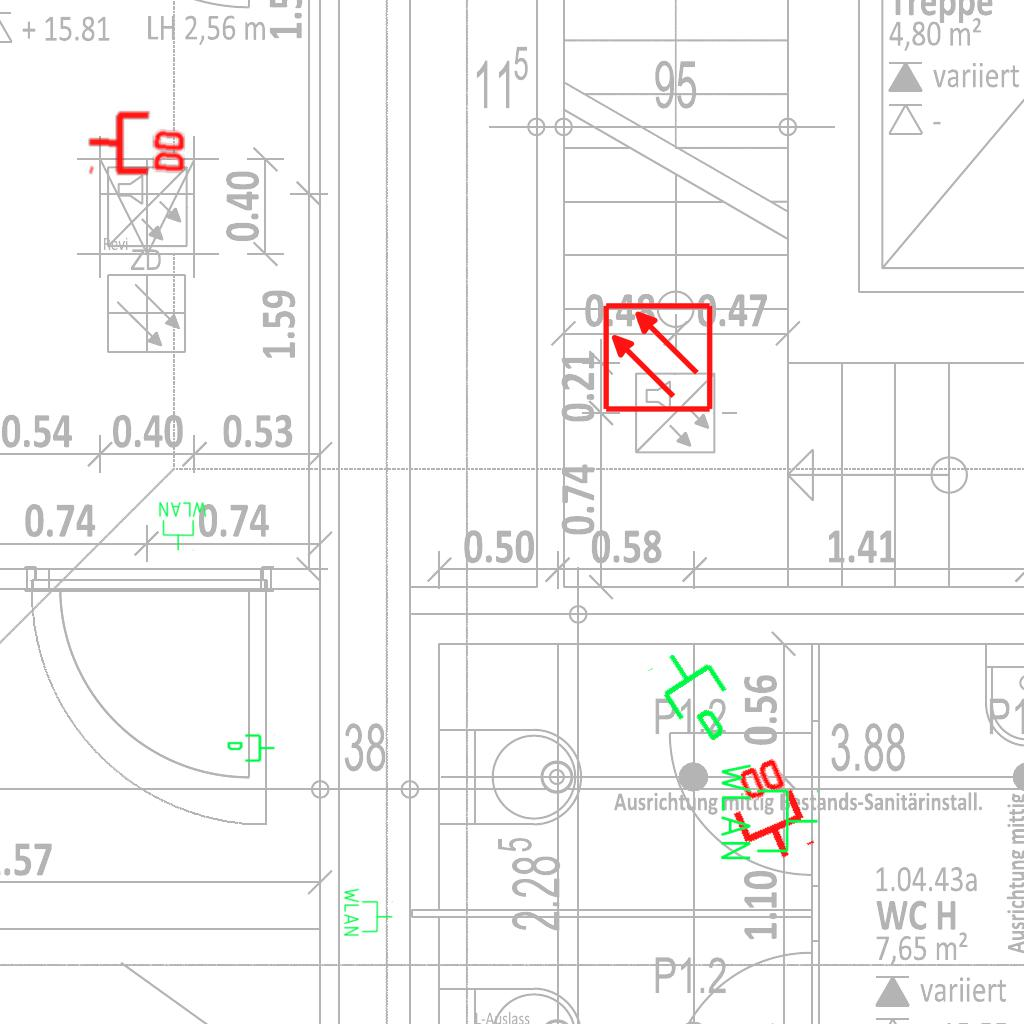Datenanschluss_einfach: (642, 633, 755, 755), (226, 732, 276, 766)
Datenanschluss_zweifach: (713, 751, 818, 874), (85, 106, 190, 177)
RMO_Rauchmelder_optischer: (601, 301, 714, 414)
WLAN: (717, 759, 821, 864), (342, 886, 394, 938), (157, 500, 209, 552)
